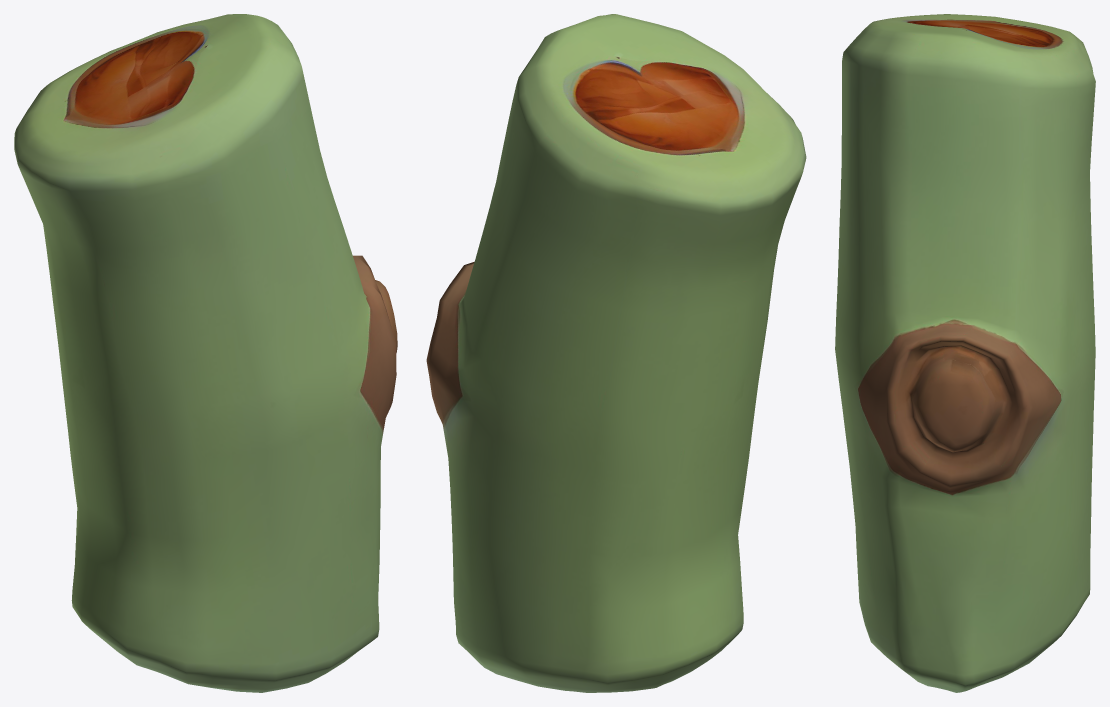
Rendered from monstera_stem_thick.glb.
3 renders of one model, left to right at view 1: azimuth 30°, elevation 25°; view 2: azimuth 150°, elevation 25°; view 3: azimuth 270°, elevation 25°, orthographic. The views are drawn at different scales.
Parts seen in each view (by area): view 1: tripo_node_34924e5f-32a0-4ecb-b694-1db282579c59; view 2: tripo_node_34924e5f-32a0-4ecb-b694-1db282579c59; view 3: tripo_node_34924e5f-32a0-4ecb-b694-1db282579c59.
Boxes of the visible parts, <box> form: tripo_node_34924e5f-32a0-4ecb-b694-1db282579c59: <box>14,14,397,692</box>; tripo_node_34924e5f-32a0-4ecb-b694-1db282579c59: <box>426,14,806,692</box>; tripo_node_34924e5f-32a0-4ecb-b694-1db282579c59: <box>835,14,1095,692</box>.
Size of the model in its own units: 0.5595 by 0.9967 by 0.3775.
Materials: 1 (1 with a texture image).
